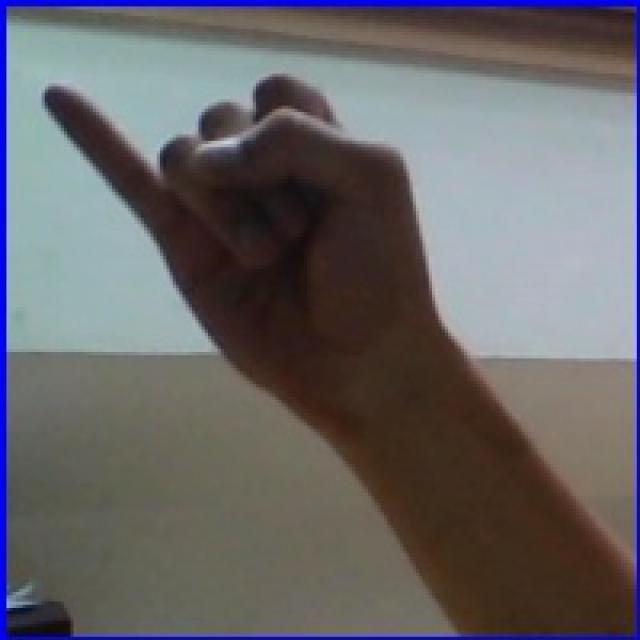J: (41, 49, 478, 410)
